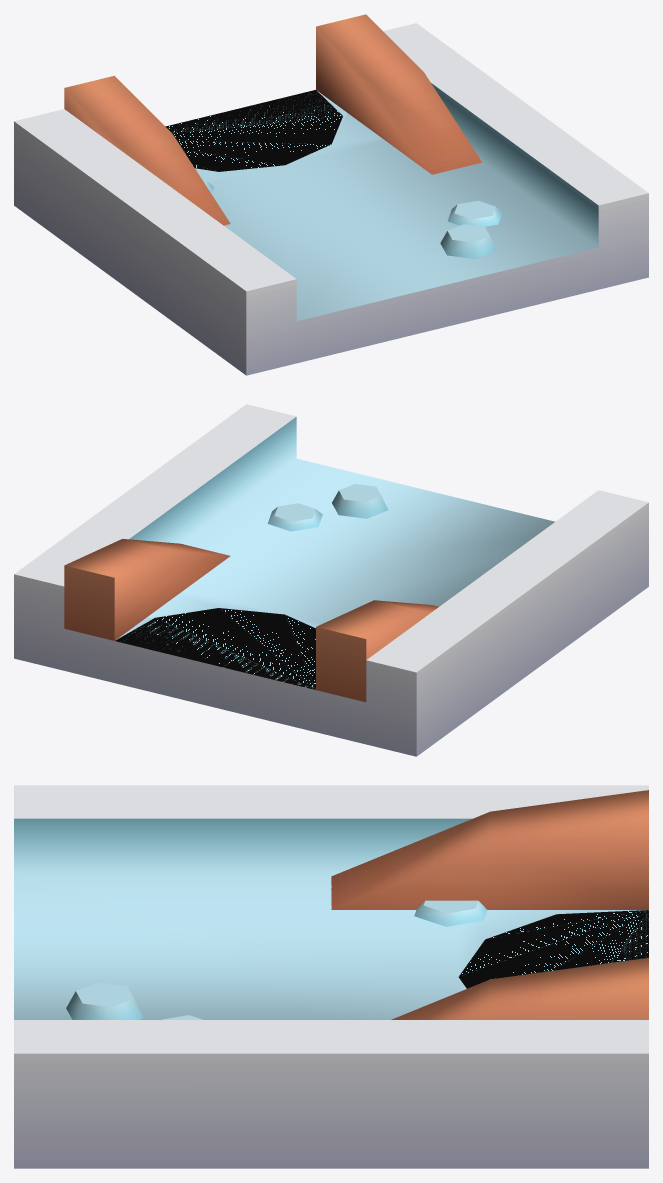
File: kenney-tower-defense-snow-tile-river.glb
3 views of the same model, one above another, from view 1: azimuth 30°, elevation 25°; view 2: azimuth 150°, elevation 25°; view 3: azimuth 270°, elevation 25° (orthographic). The views are drawn at different scales.
Visible parts, largest first — view 1: snow-tile-river-transition; view 2: snow-tile-river-transition; view 3: snow-tile-river-transition.
Part boxes in pixels (box(x1,y1,x2,y2)): snow-tile-river-transition: box(14, 14, 648, 375); snow-tile-river-transition: box(14, 404, 648, 756); snow-tile-river-transition: box(14, 785, 648, 1168).
Size of the model in its own units: 1 by 0.25 by 1.
Materials: 1 (1 with a texture image).
